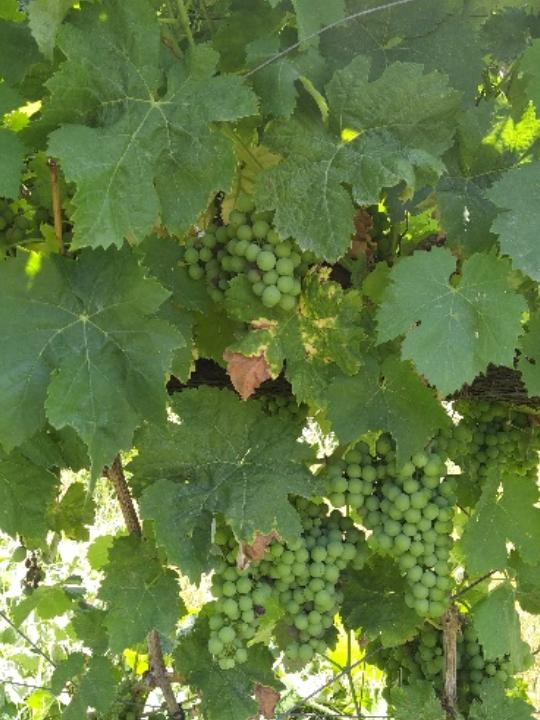grape: (323, 425, 475, 620), (257, 490, 368, 664), (182, 188, 318, 313), (205, 520, 274, 672), (76, 700, 185, 720)
